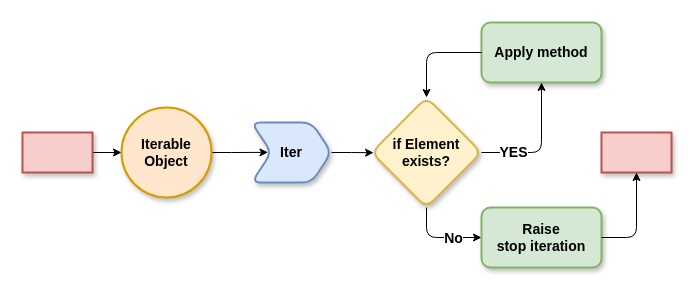
Image size: 695x292. Some labels were removed from this diagram. Here are the shapes that lost their labels. From the top down, the centre of each, then its label:
At (58,153): "START".
At (637,153): "STOP".
